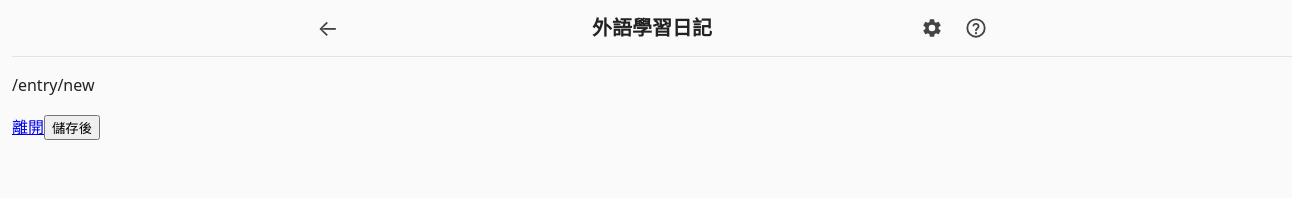
Test: TopBar › goes back to the previous in-app page from /entry/new
Expected: the link named "設定" is shown, x1=921 y1=17 x2=943 y2=39
Expected: the link named "使用說明" is shown, x1=965 y1=17 x2=987 y2=39
Click the button named "返回" at (328,28), box x1=308 y1=8 x2=348 y2=48
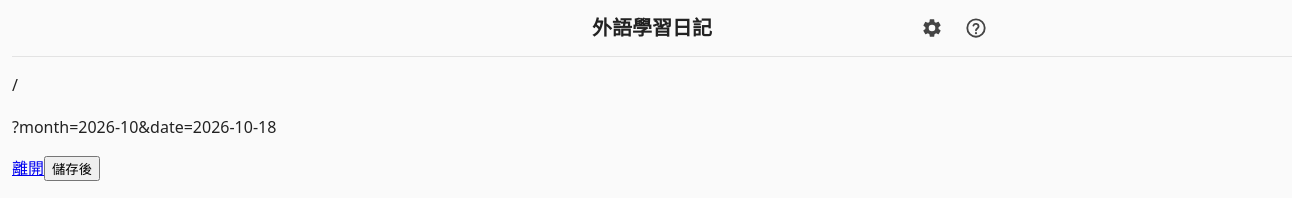
Result: the text with test id "search" reads "?month=2026-10&date=2026-10-18" at x1=12 y1=116 x2=276 y2=138
